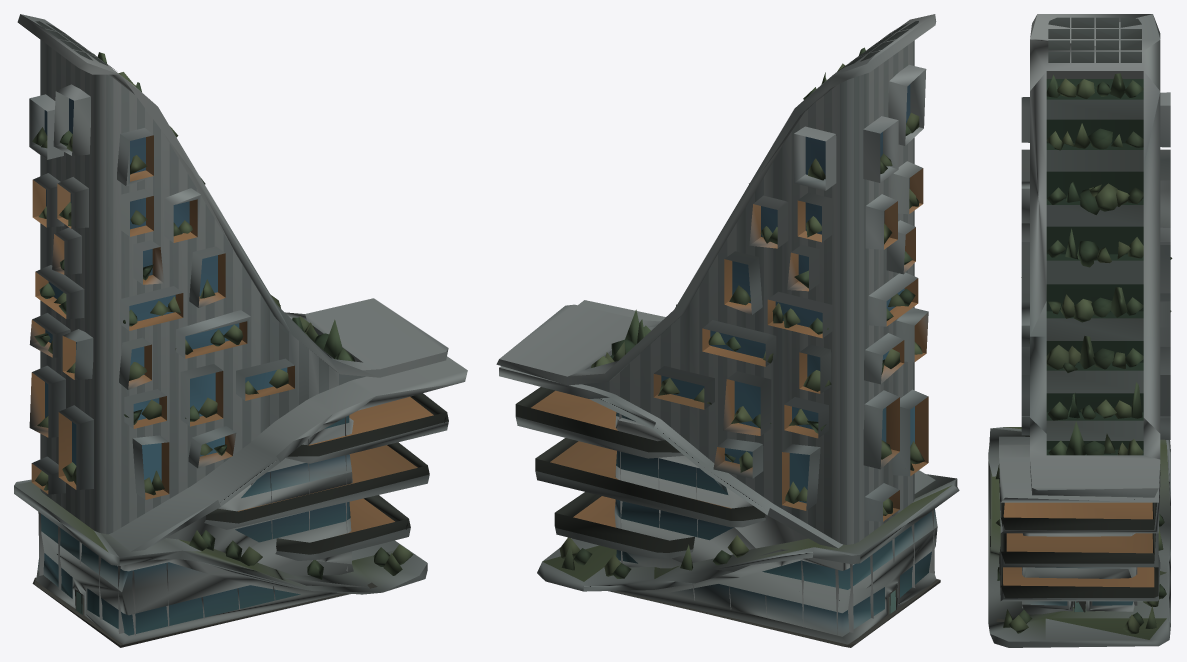
The model's file is ct_bld_slope.glb.
3 renders of one model, left to right at view 1: azimuth 30°, elevation 25°; view 2: azimuth 150°, elevation 25°; view 3: azimuth 270°, elevation 25°, orthographic. The views are drawn at different scales.
Parts seen in each view (by area): view 1: ct_bld_slope; view 2: ct_bld_slope; view 3: ct_bld_slope.
Part boxes in pixels (x1=…): ct_bld_slope: x1=14, y1=14, x2=467, y2=647; ct_bld_slope: x1=496, y1=14, x2=959, y2=647; ct_bld_slope: x1=988, y1=14, x2=1172, y2=647.
Bounding box in the file's own units: 16.08 × 24.07 × 8.08.
